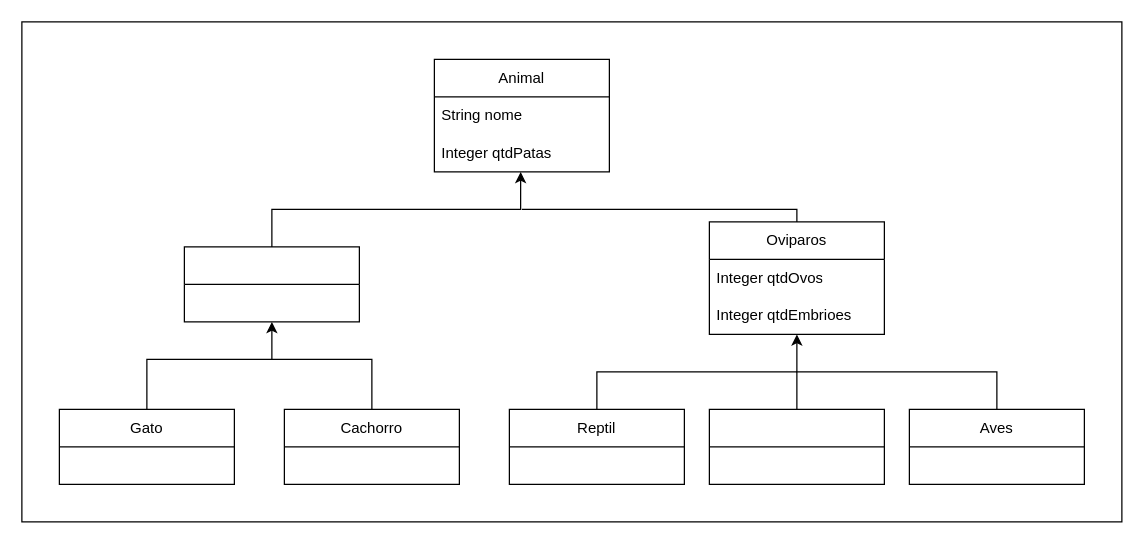
Image size: 1144x544. Some labels were removed from this diagram. Here are the shapes that lost their labels. From the top down, the centre of each, then its label:
At (271,284): "Mamiferos".
At (796,446): "Ornitorrinco".
